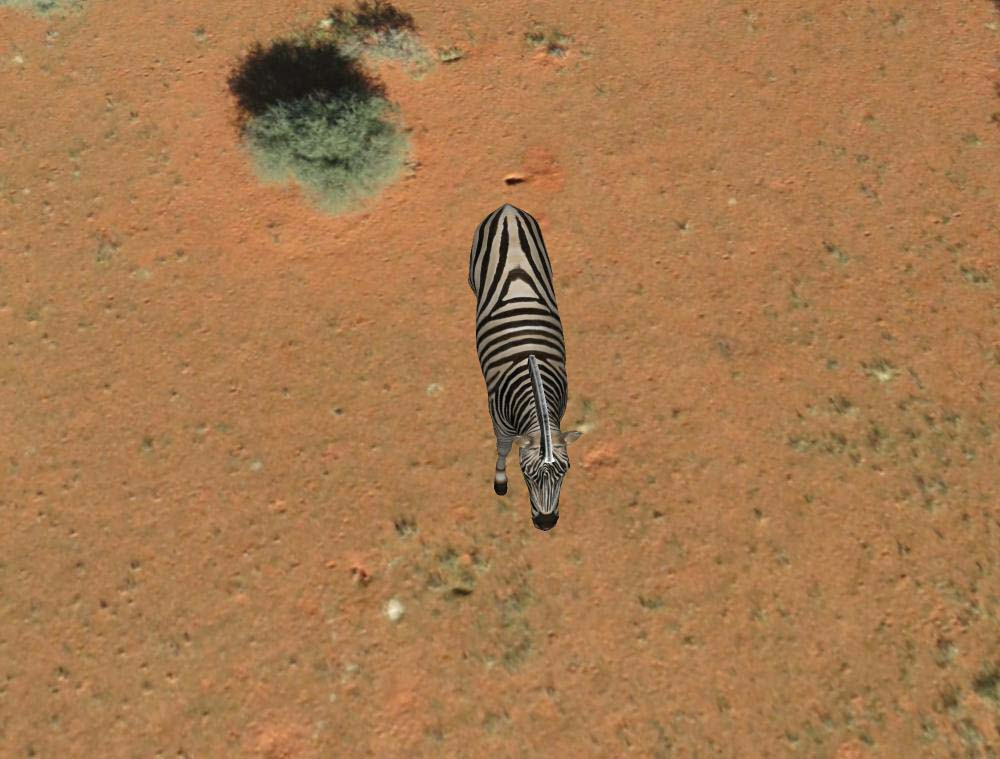zebra: (458, 202, 580, 534)
